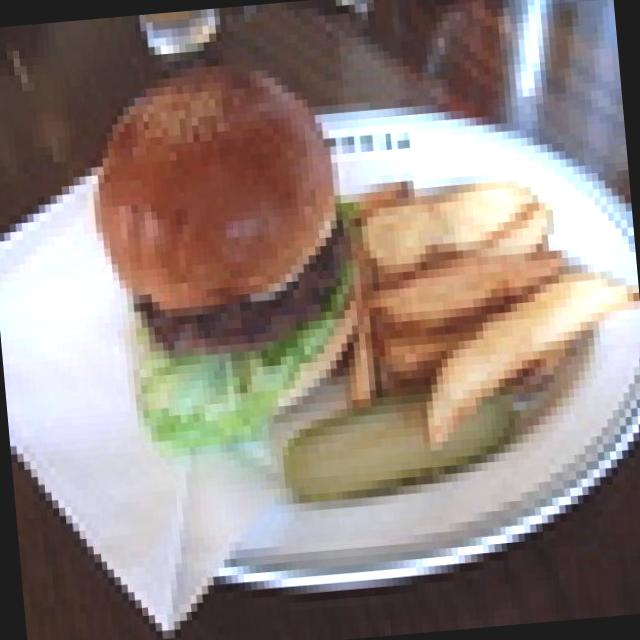Hamburger: (91, 54, 362, 438)
